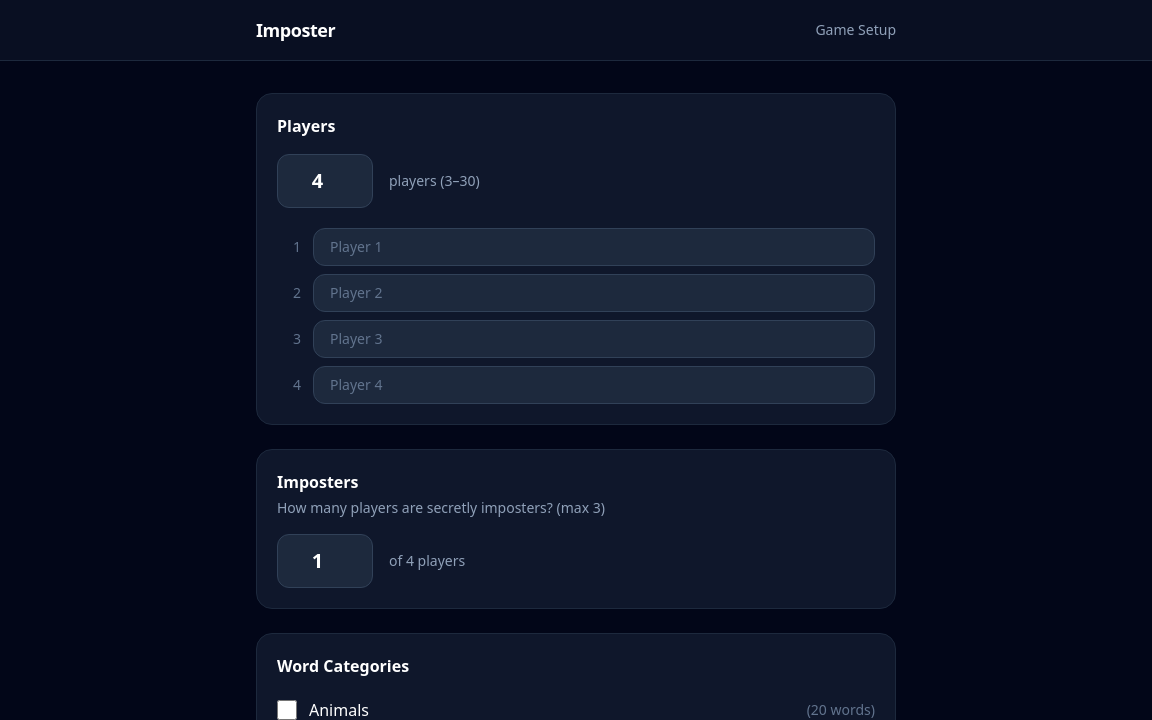
it: Game Setup Page › Start Game is enabled when player count ≥ 3 and words are selected
Click the checkbox labelled "Animals (20 words)" at (287, 710), box x1=277 y1=700 x2=297 y2=719
(page scrolled)
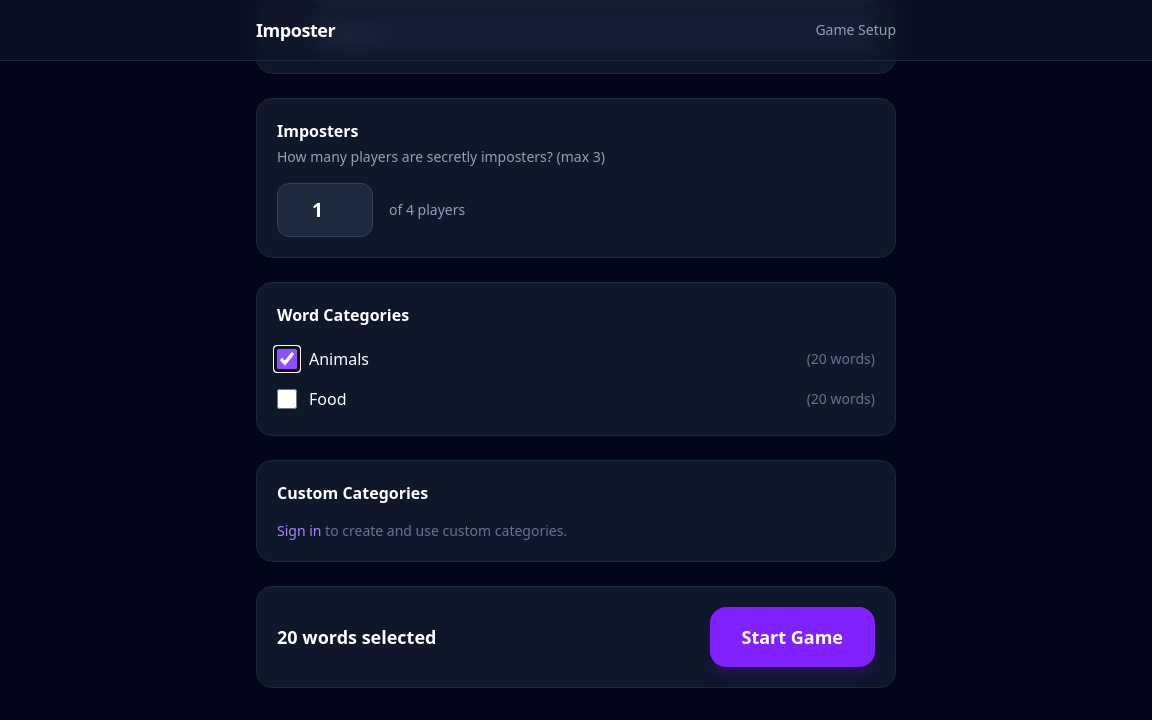
Expected: the button "Start Game" is enabled, x1=710 y1=607 x2=875 y2=667
